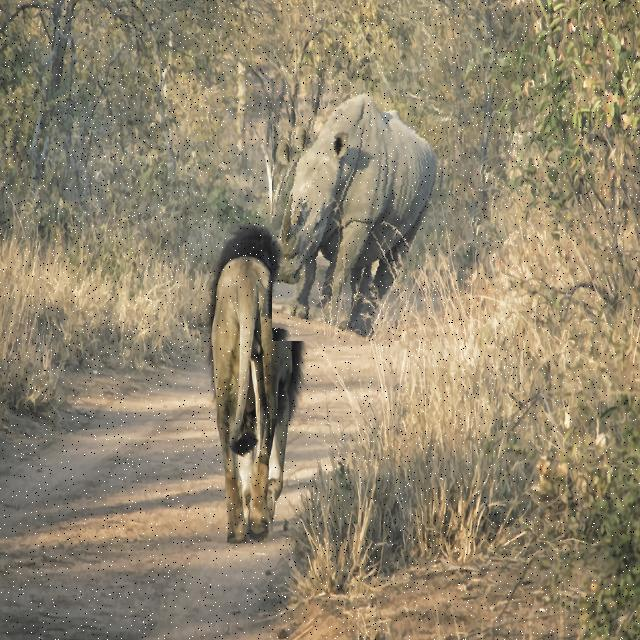elephant: (272, 83, 448, 341)
